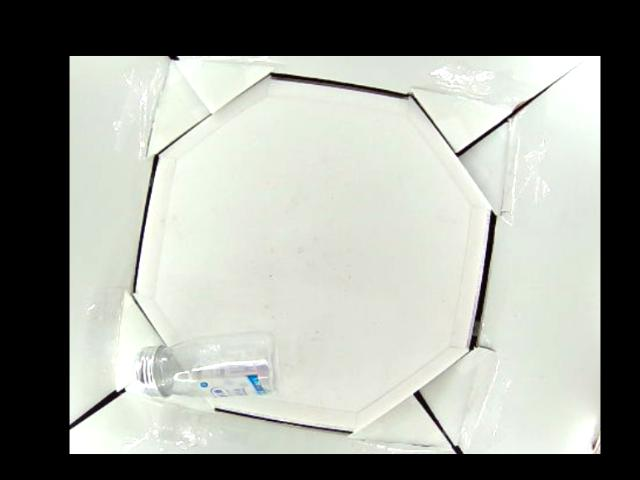Bottle: (132, 332, 277, 400)
